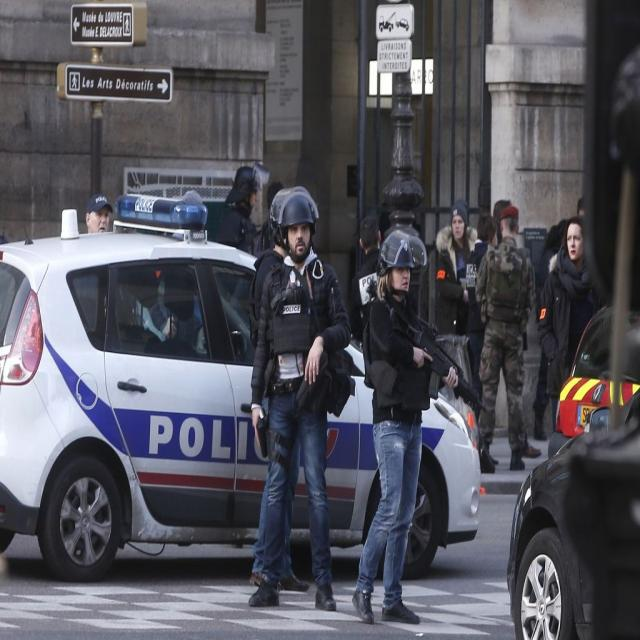body: (346, 224, 489, 629), (243, 191, 358, 618), (243, 181, 335, 593), (472, 203, 538, 474), (536, 214, 608, 448), (477, 204, 542, 461), (464, 212, 501, 466), (247, 187, 291, 353), (434, 196, 480, 336), (204, 165, 262, 257), (350, 214, 388, 344), (539, 198, 585, 276), (277, 178, 325, 233), (532, 349, 550, 443), (84, 190, 114, 234)
